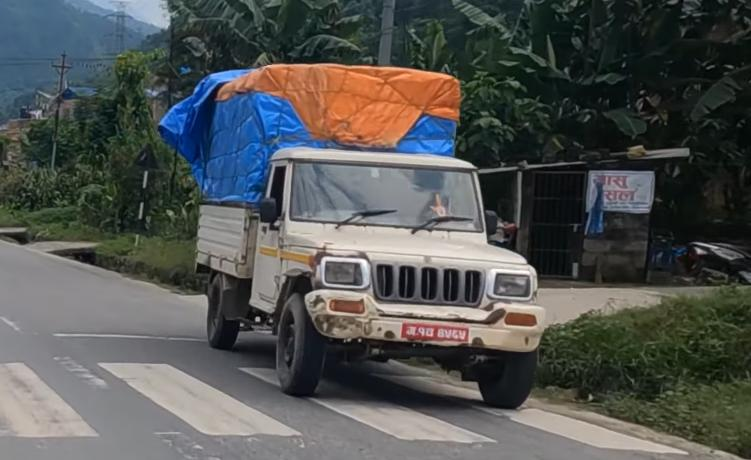transport_vehicle: (175, 52, 550, 417)
